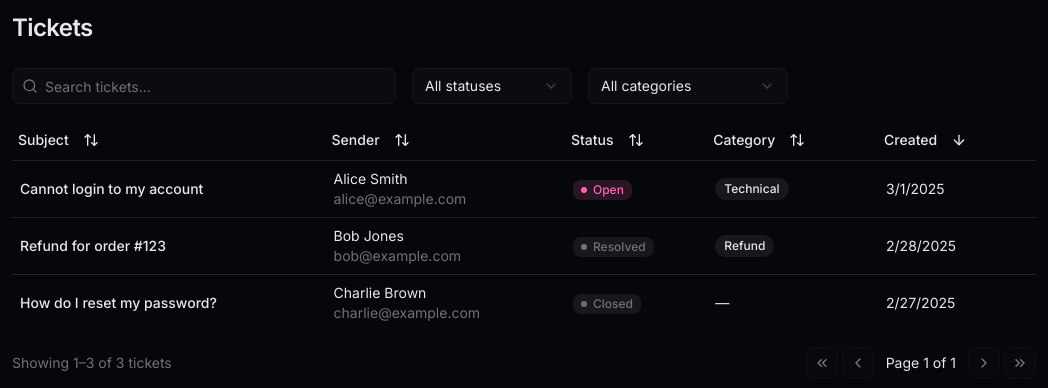
Test: TicketsPage › Clear filters › AC2 — hidden at defaults › CASE-d13a64090439: is absent again after status returns to All statuses
This screenshot has width=1048, height=388.
Expected: the link "Cannot login to my account" is shown, [20,180,203,196]
What coordinates should you click on to do the following:
click the dropdown labelled "All statuses"
I would click on:
 (492, 86)
Its box is [412,68,572,104].
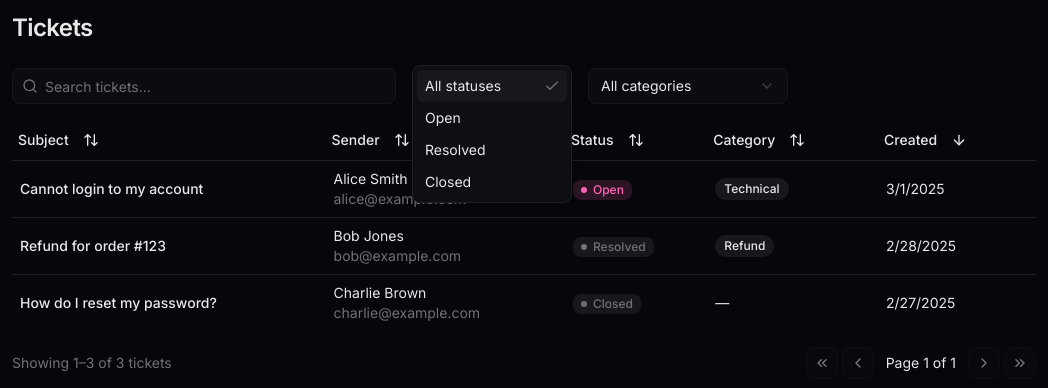
What coordinates should you click on to do the following:
click the option "Open"
I would click on:
 (443, 118)
Its box is [425,109,461,126].
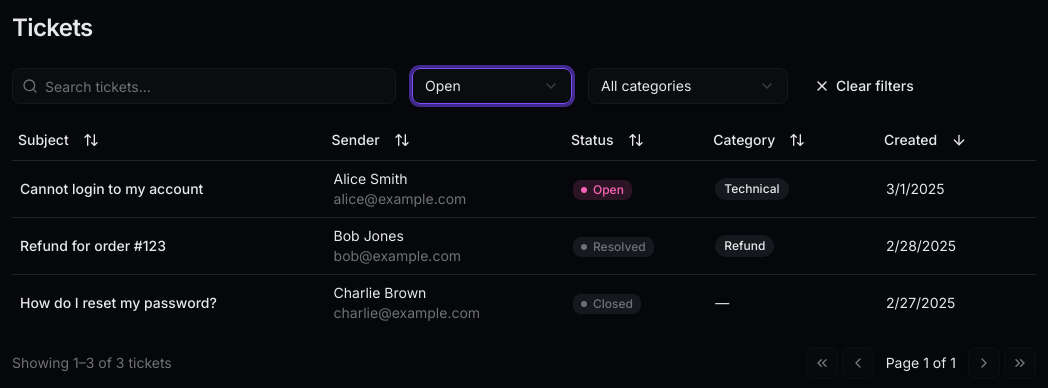
Result: the button "Clear filters" is shown at [804,70,924,102]
What coordinates should you click on to do the following:
click the dropdown labelled "Open"
I would click on:
 (492, 86)
Its box is [412,68,572,104].
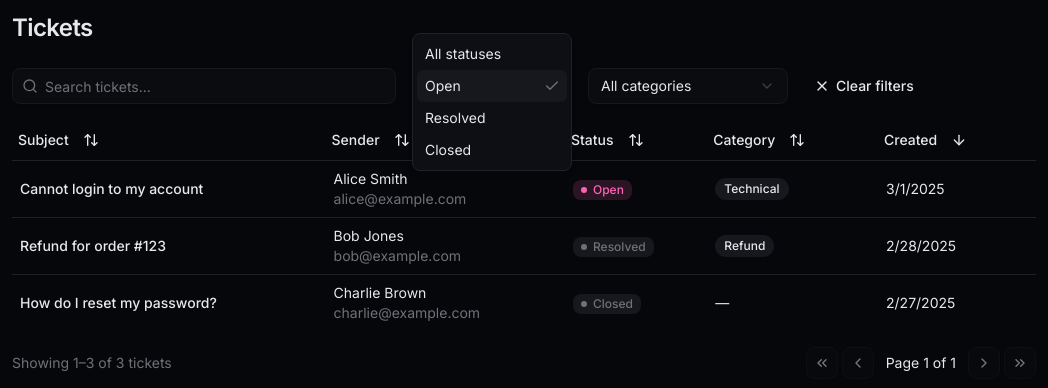
What coordinates should you click on to do the following:
click the option "All statuses"
I would click on:
 (463, 54)
Its box is [425,45,501,62].
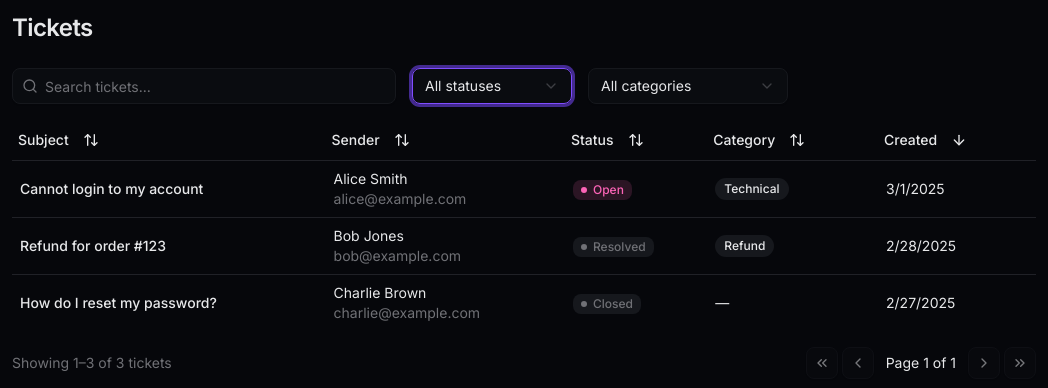
Result: the button "Clear filters" is gone
